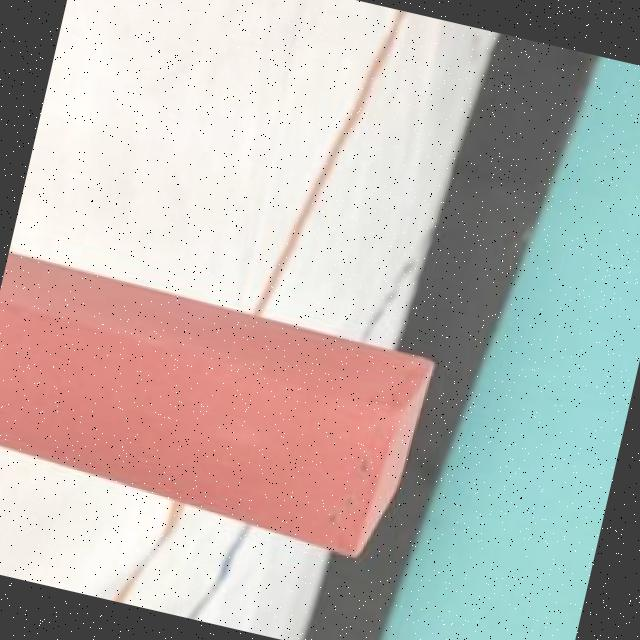redbox: (0, 254, 430, 535)
